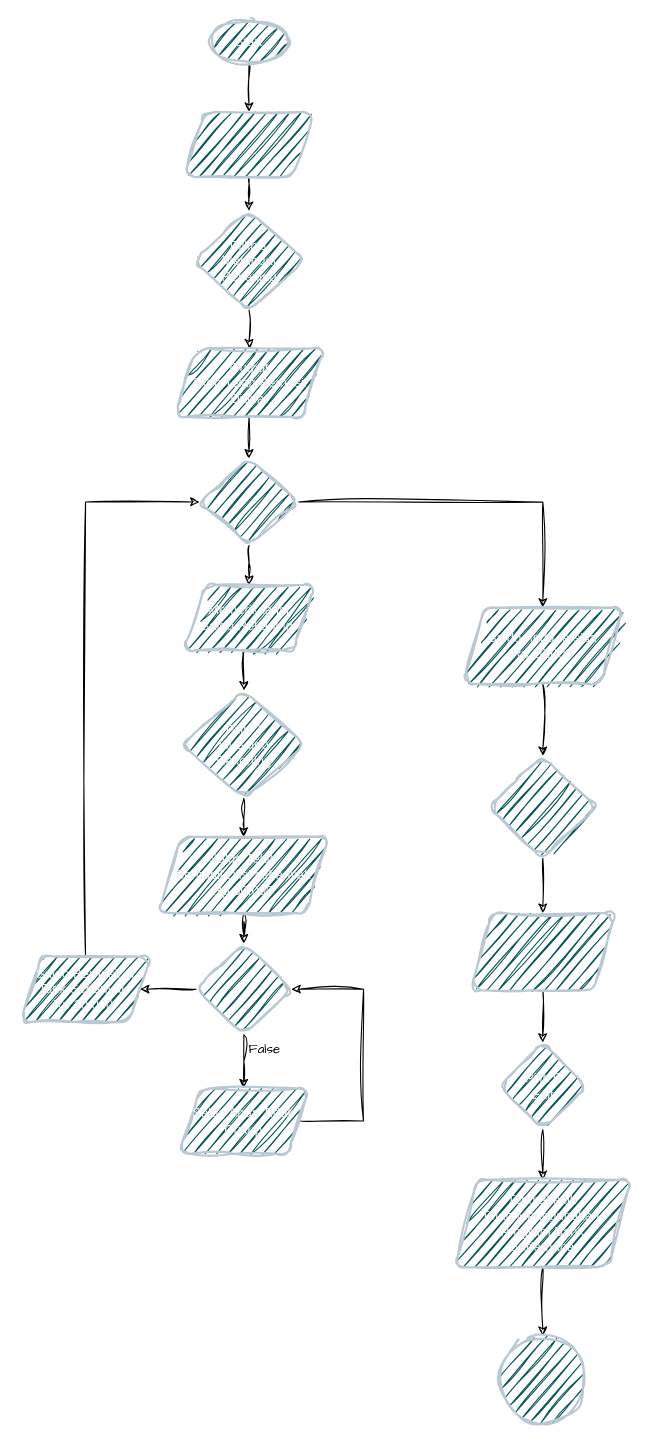
This 650x1442 diagram has some shape labels left out. Each missing label, with the box of its shape:
Akun Telah Berhasil Dihapus: (469, 911, 616, 991)
END: (498, 1334, 587, 1424)
Input Menu Pilihan: (182, 110, 315, 178)
Pilih 2 Cek Saldo: (198, 457, 299, 546)
Pilih 4 Tarik saldo: (194, 942, 292, 1036)
Pilih 5 Hapus Akun: (487, 754, 597, 859)
